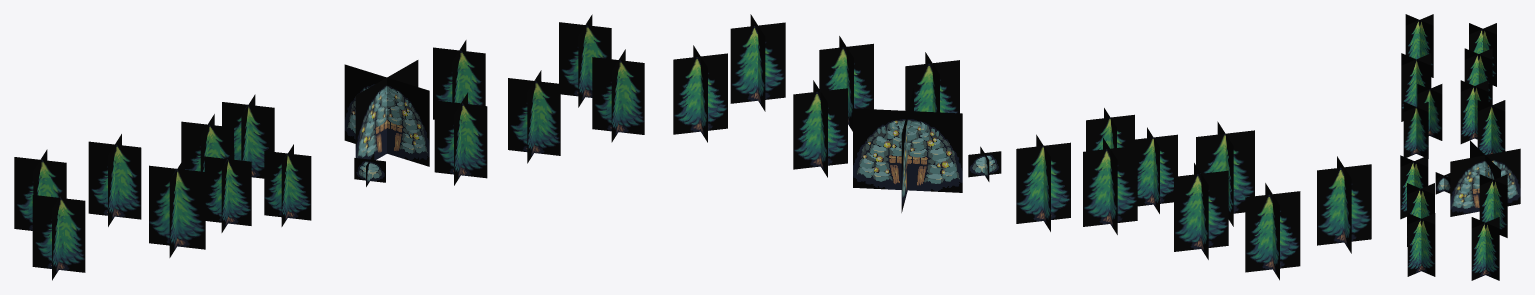
Rendered from Props4.glb.
3 renders of one model, left to right at view 1: azimuth 30°, elevation 25°; view 2: azimuth 150°, elevation 25°; view 3: azimuth 270°, elevation 25°, orthographic. The views are drawn at different scales.
Visible parts, largest first — view 1: Props4; view 2: Props4; view 3: Props4.
Boxes of the visible parts, x1,y1,x2,y2 form: Props4: [14, 14, 644, 280]; Props4: [673, 14, 1371, 280]; Props4: [1400, 14, 1520, 280].
Bounding box in the file's own units: 7.81 × 1.02 × 1.85.
1 material, 1 textured.
